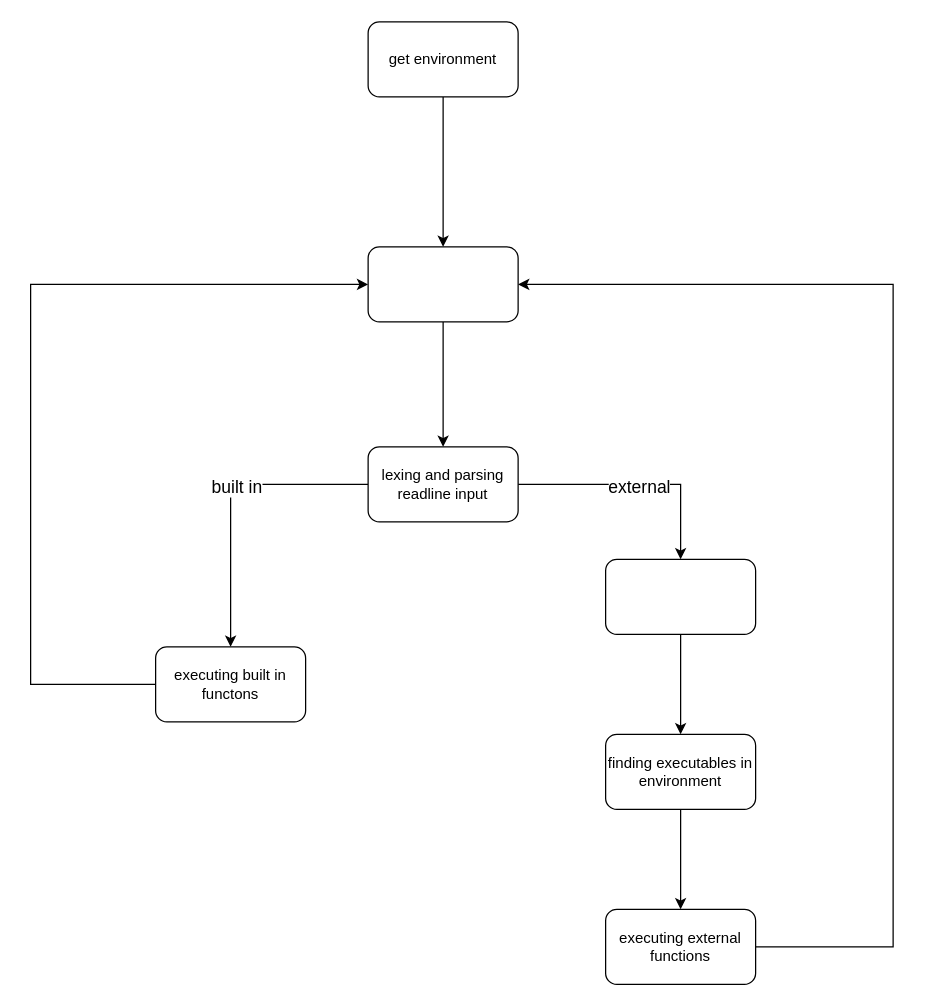
The diagram is 925 pixels wide and 1006 high, and some of its shapes have lost their labels. The shapes that lost their labels are listed below. From the top down, each one's centre as x and y in pixels, then its label:
At point 442,284: "main loop".
At point 680,596: "fork".
